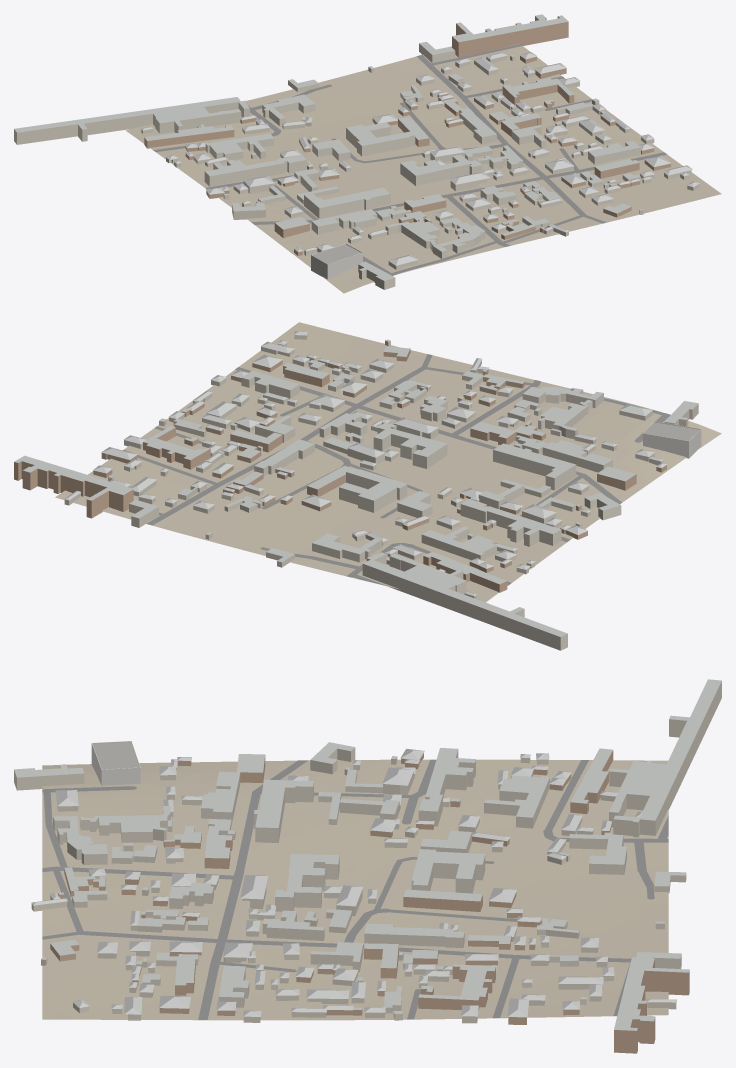
The model's file is bolak_-20_4.glb.
The picture shows the model from 3 angles, top to bottom: view 1: azimuth 30°, elevation 25°; view 2: azimuth 150°, elevation 25°; view 3: azimuth 270°, elevation 25°; orthographic projection. The views are drawn at different scales.
Parts seen in each view (by area): view 1: Yer_Tuproq-col, Tom_Shifer, Devor_Suvoq-col, Devor_Gisht-col, Yol_Mahalla-col, Devor_Dokon-col, Tom_Tekis; view 2: Yer_Tuproq-col, Tom_Shifer, Devor_Suvoq-col, Devor_Gisht-col, Yol_Mahalla-col, Devor_Dokon-col, Tom_Tekis; view 3: Yer_Tuproq-col, Tom_Shifer, Devor_Suvoq-col, Yol_Mahalla-col, Devor_Gisht-col, Tom_Tekis, Devor_Dokon-col.
Boxes of the visible parts, x1,y1,x2,y2 form: Yer_Tuproq-col: (125, 43, 721, 293); Tom_Shifer: (14, 14, 699, 280); Devor_Suvoq-col: (14, 30, 699, 289); Devor_Gisht-col: (144, 16, 670, 256); Yol_Mahalla-col: (153, 44, 667, 275); Devor_Dokon-col: (311, 243, 362, 279); Tom_Tekis: (312, 244, 361, 263); Yer_Tuproq-col: (55, 322, 721, 602); Tom_Shifer: (14, 331, 698, 636); Devor_Suvoq-col: (64, 335, 698, 650); Devor_Gisht-col: (14, 349, 666, 592); Yol_Mahalla-col: (122, 354, 670, 586); Devor_Dokon-col: (643, 421, 701, 458); Tom_Tekis: (644, 422, 699, 440); Yer_Tuproq-col: (42, 759, 668, 1020); Tom_Shifer: (14, 679, 721, 1030); Devor_Suvoq-col: (14, 681, 721, 1023); Yol_Mahalla-col: (42, 759, 668, 1019); Devor_Gisht-col: (50, 750, 689, 1053); Tom_Tekis: (92, 742, 139, 769); Devor_Dokon-col: (91, 741, 140, 785).
Size of what is drawn, in the model's own units: 550 by 22.84 by 452.
